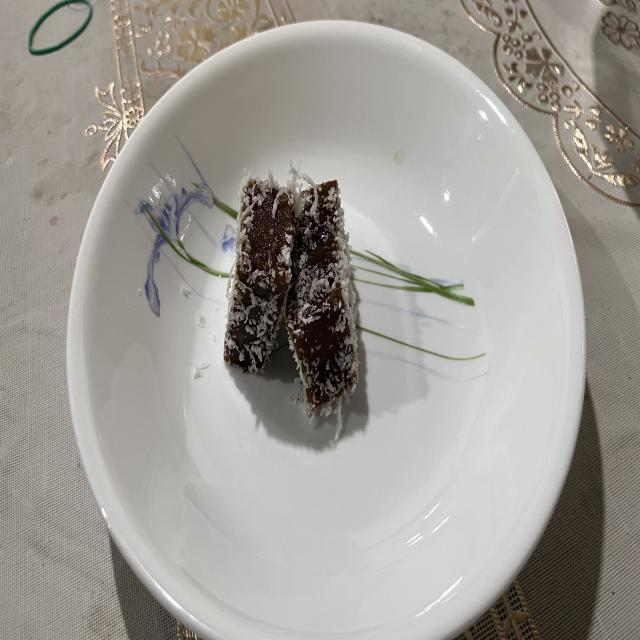kaswi: (285, 177, 359, 424), (222, 178, 295, 371)
